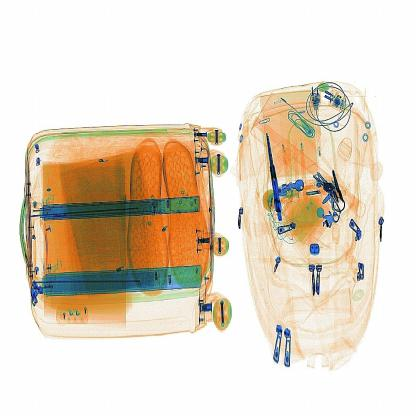gun: (257, 126, 289, 226)
